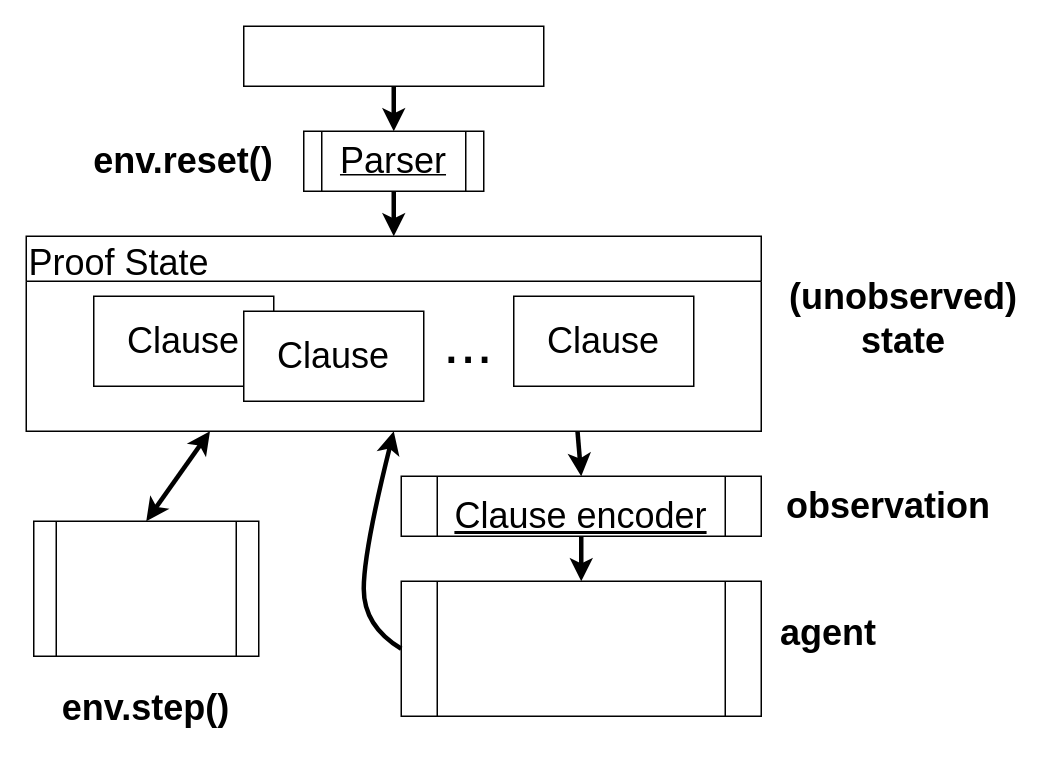
Some shapes in this 1044 by 758 pixel diagram are drawn without their labels. Here are the shapes that lost their labels. From the top down, the centre of each, then its label:
(393,55): Problem File
(145,588): Proof Calculus
(580,648): Given clause selection guidance
